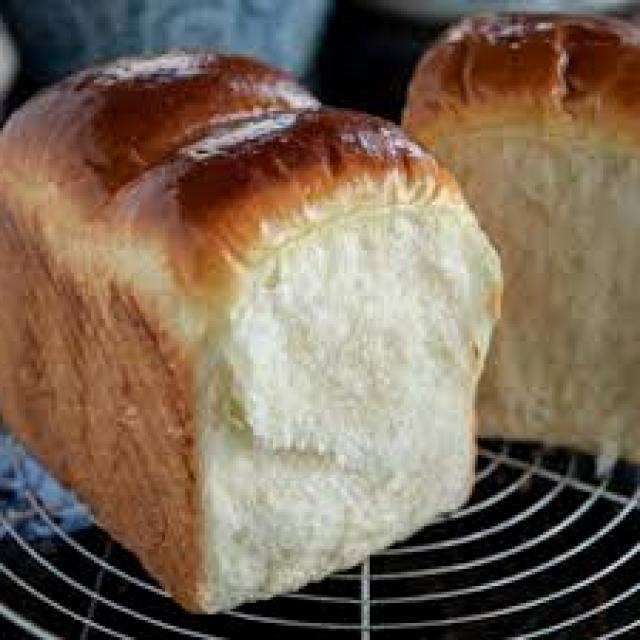roti tawar: (0, 48, 503, 617)
